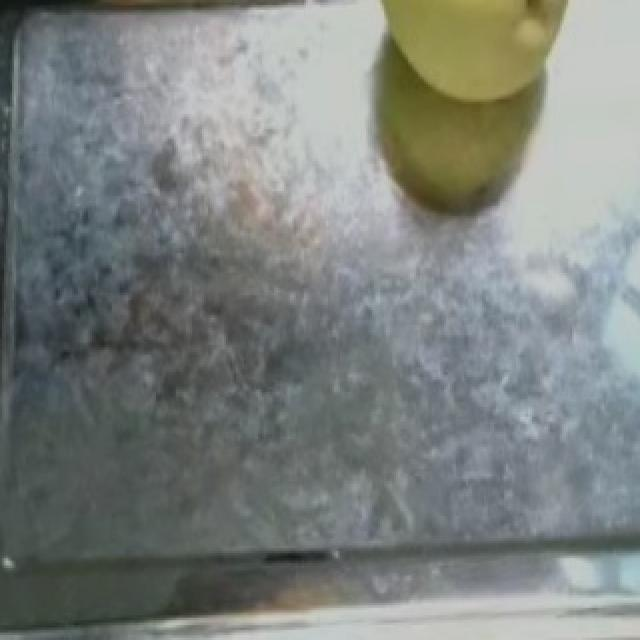Fruit: (344, 0, 604, 139)
